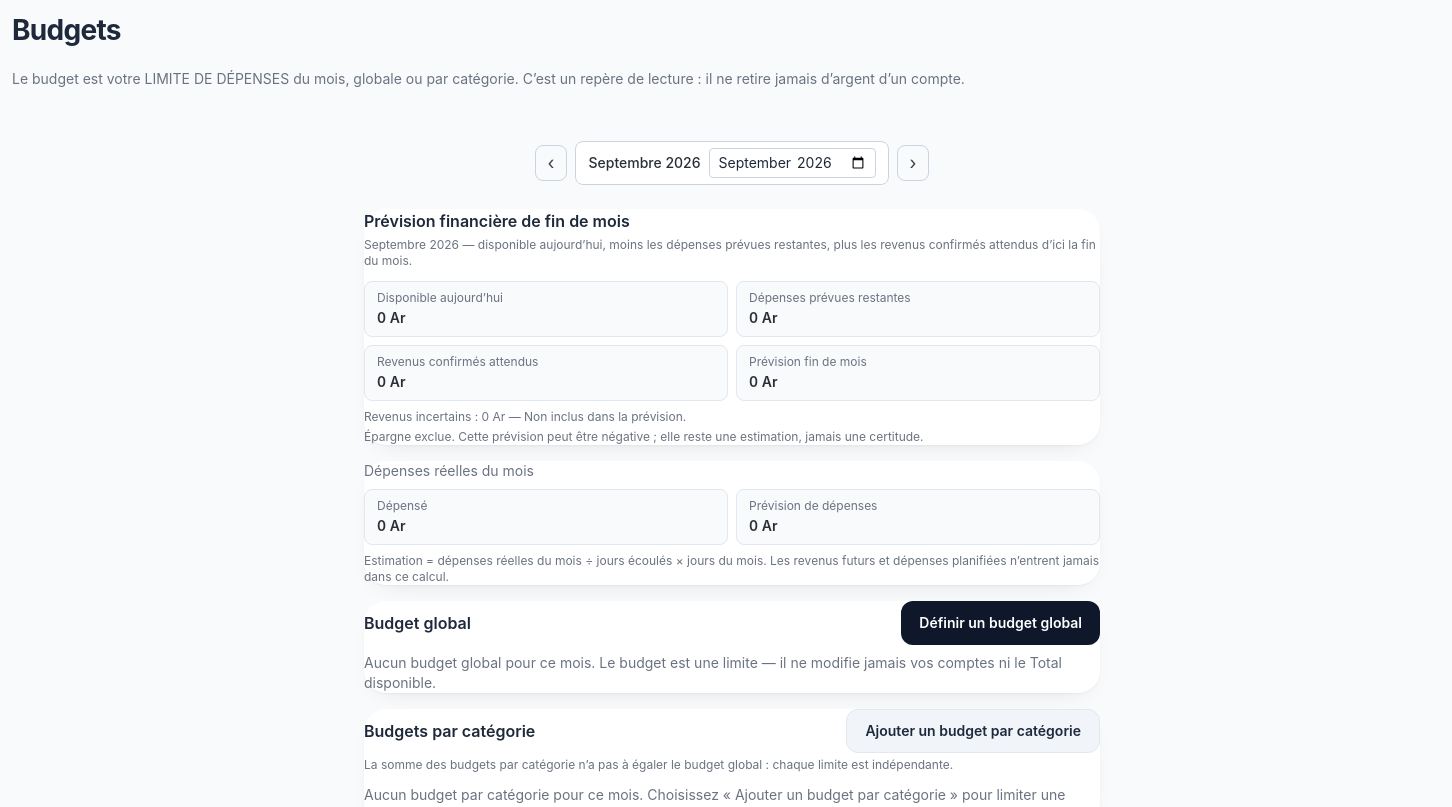
Test case: BudgetsPage — budgets mensuels › affiche le message d’erreur renvoyé par l’API (ex. doublon)
Expected: the heading "Budgets" is shown, [12,13,121,47]
Click the button "Définir un budget global".
click(1001, 623)  # box [901,601,1100,645]
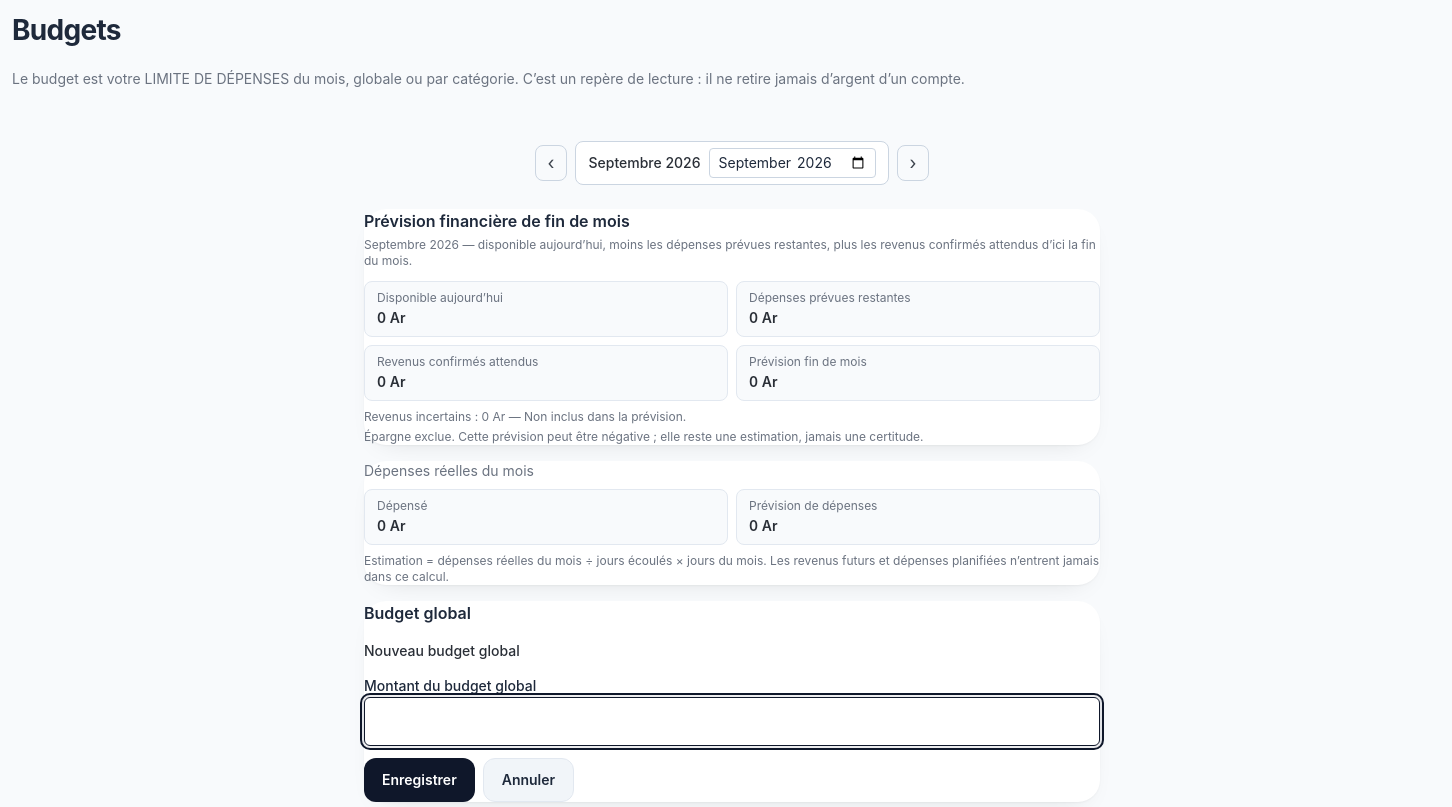
Type "1000000" into the field labelled "Montant du budget global".
click(732, 722); type("1000000")  # box [364,697,1100,746]
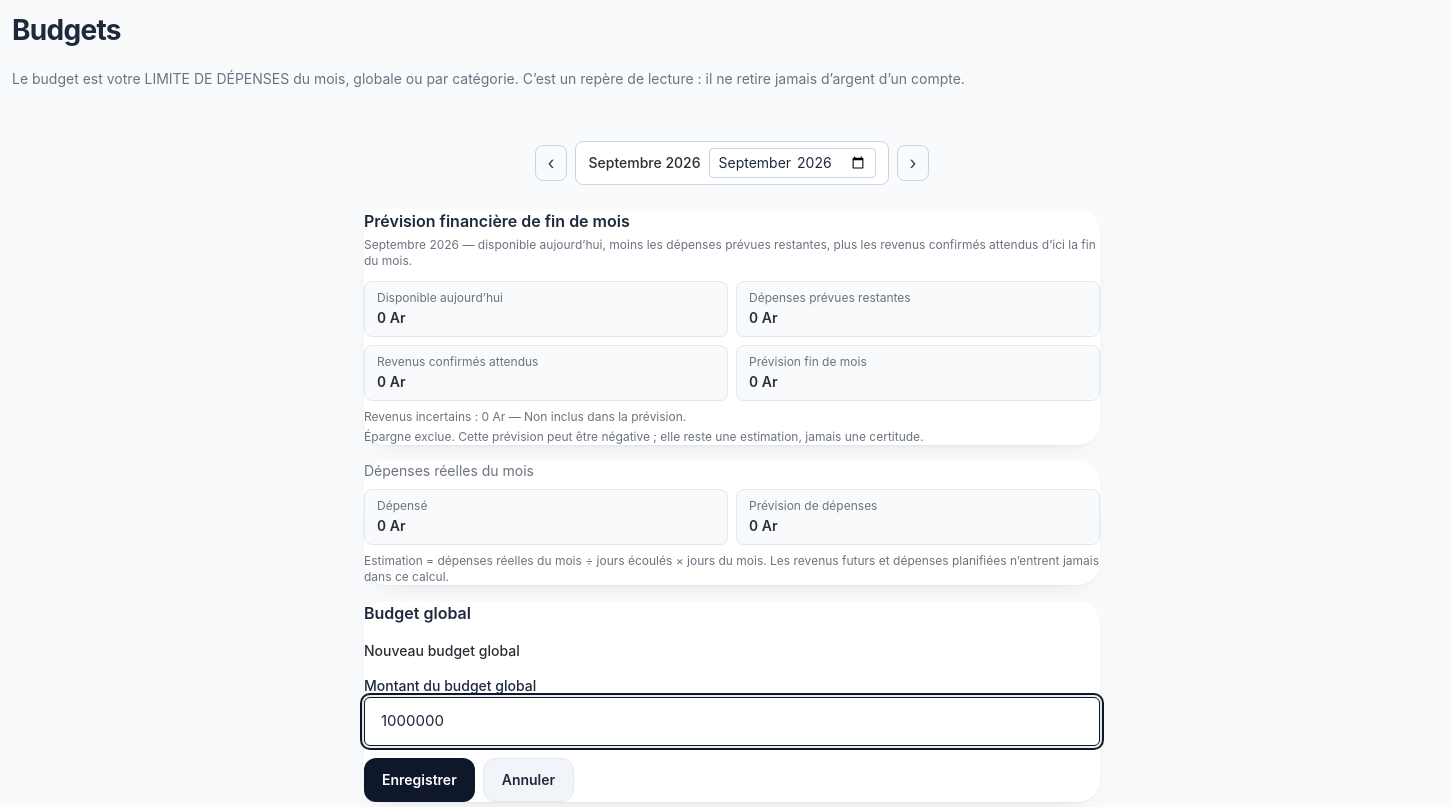
Click the button "Enregistrer".
click(419, 780)  # box [364,758,475,802]
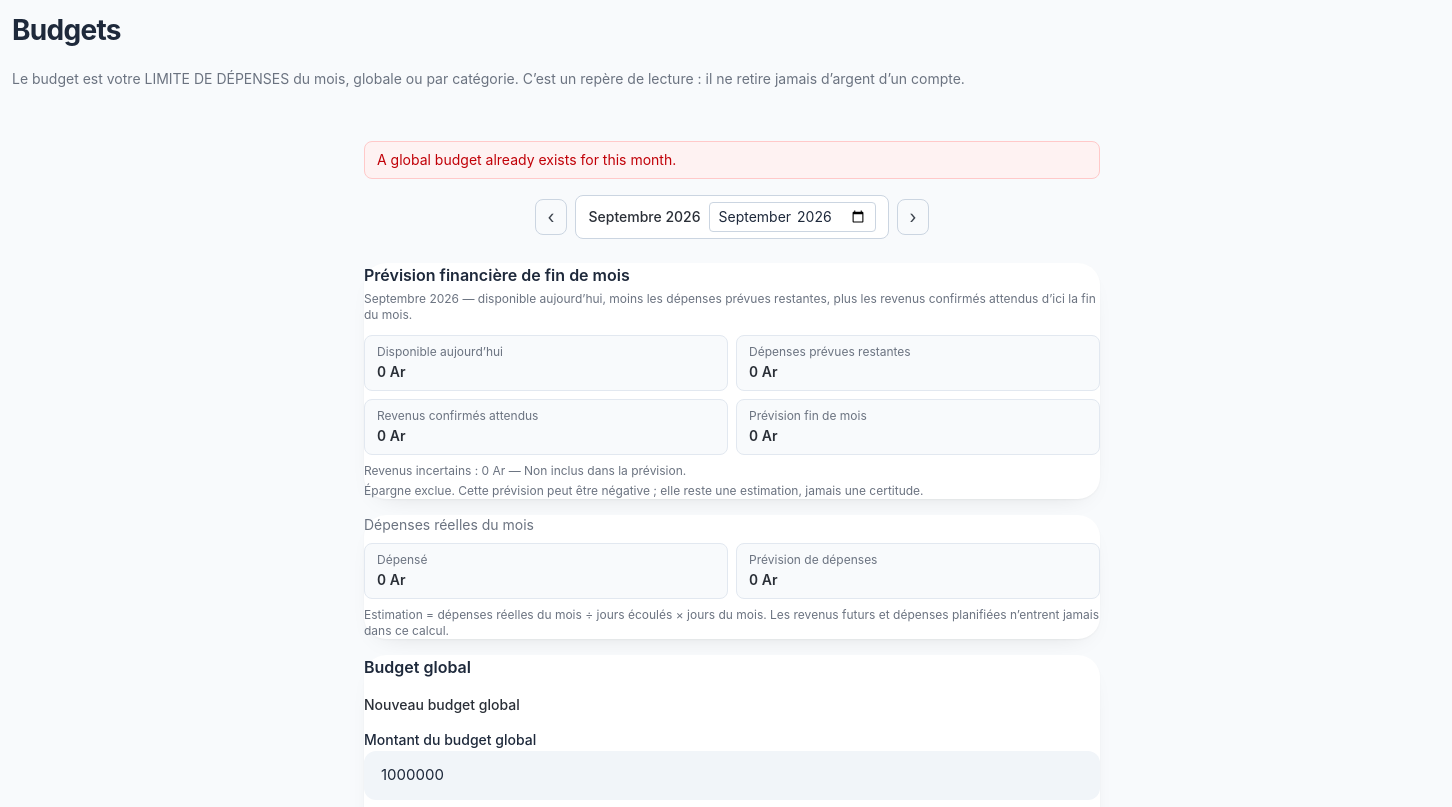
Expected: the text "A global budget already exists for this month." is shown, [364,141,1100,179]
